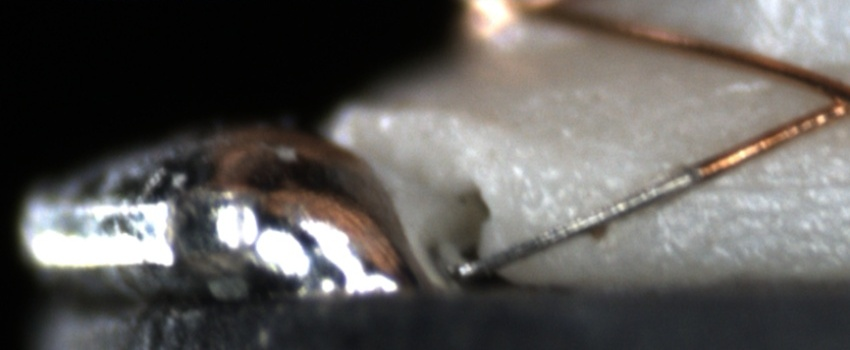CL: (801, 68, 850, 130)
DL: (613, 157, 850, 221)
TS: (460, 167, 701, 280)
